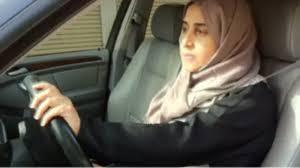Awake: (174, 1, 256, 93)
